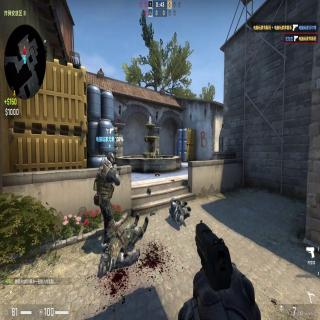CT-Body: (94, 150, 120, 242)
CT-Head: (106, 152, 116, 168)
